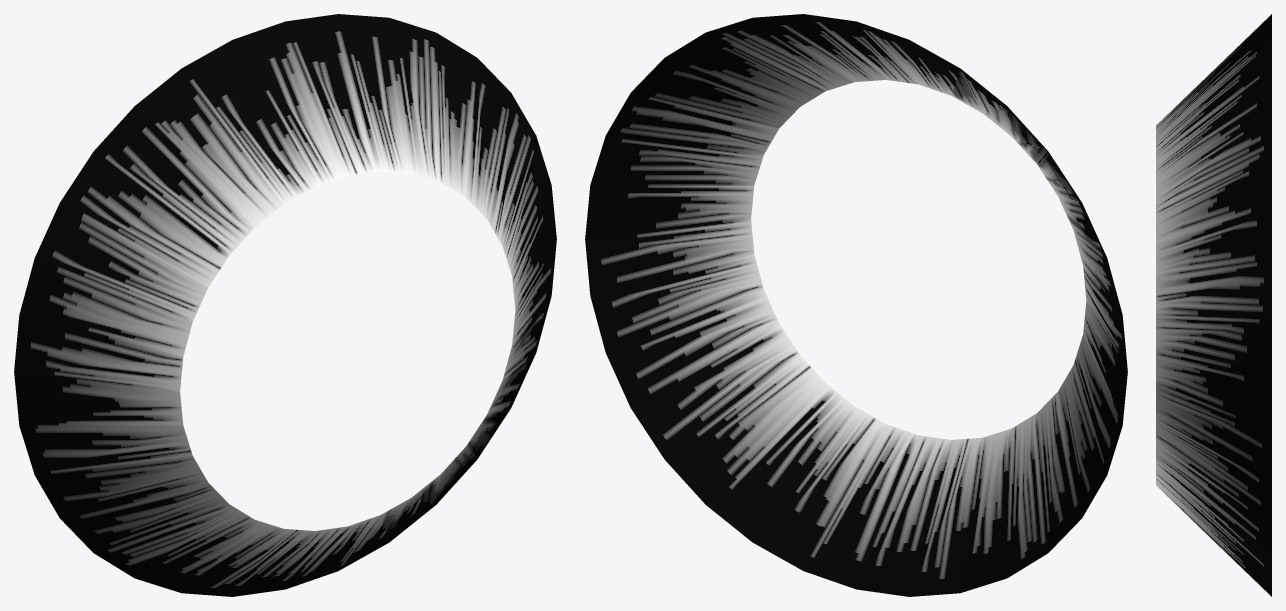
Rendered from rushWave.obj.
3 views of the same model, side by side, from view 1: azimuth 30°, elevation 25°; view 2: azimuth 150°, elevation 25°; view 3: azimuth 270°, elevation 25° (orthographic). The views are drawn at different scales.
Parts seen in each view (by area): view 1: 円柱; view 2: 円柱; view 3: 円柱.
Boxes of the visible parts, bbox=[...] form: 円柱: bbox=[14, 14, 556, 596]; 円柱: bbox=[585, 14, 1127, 596]; 円柱: bbox=[1156, 14, 1271, 596].
Size of the model in its own units: 3.24 by 3.24 by 0.643.
Materials: 1 (1 with a texture image).
